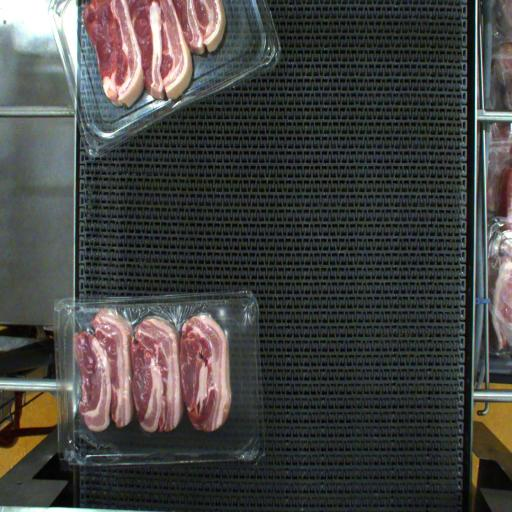unsealed: (60, 306, 251, 457)
